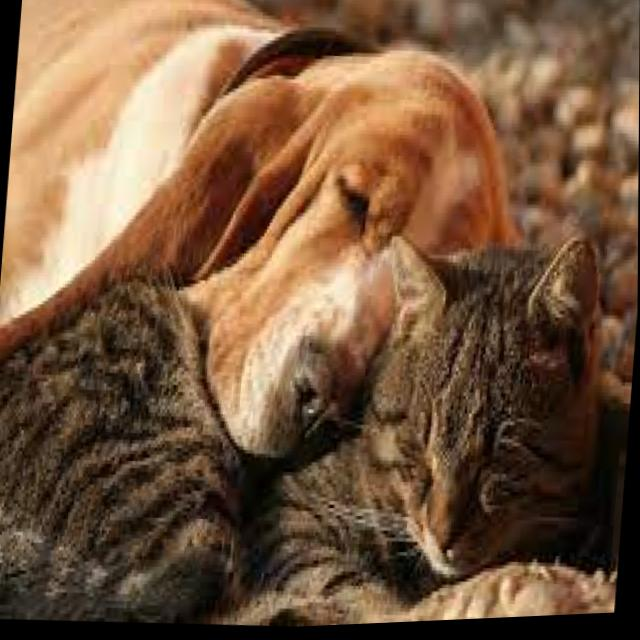Cat: (375, 244, 623, 566)
Dog: (178, 37, 408, 480)
